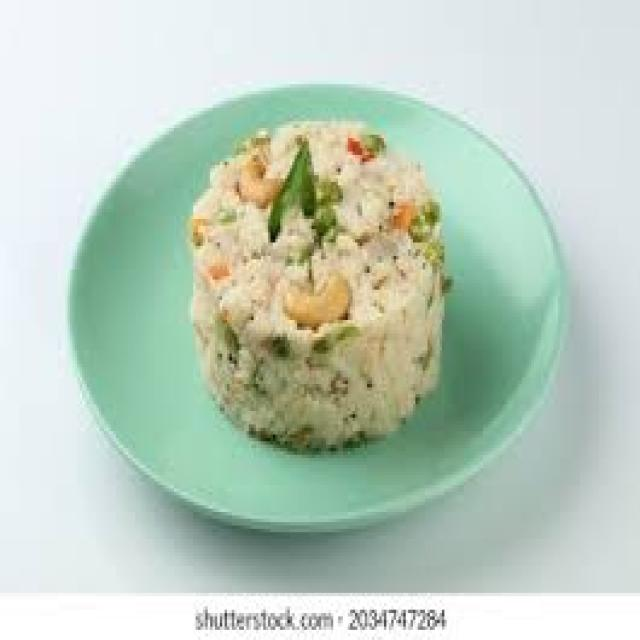UPMA: (188, 118, 437, 445)
